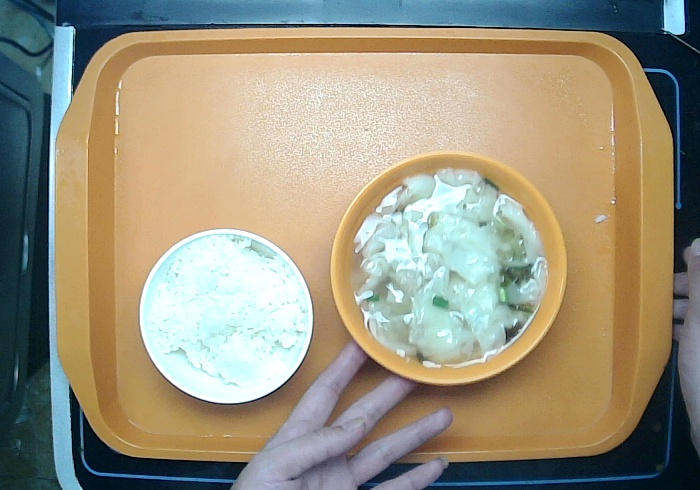NLDX-Fan_Wan: (133, 221, 323, 411)
NLDX-Hun_Tun_Wan: (322, 145, 576, 394)
